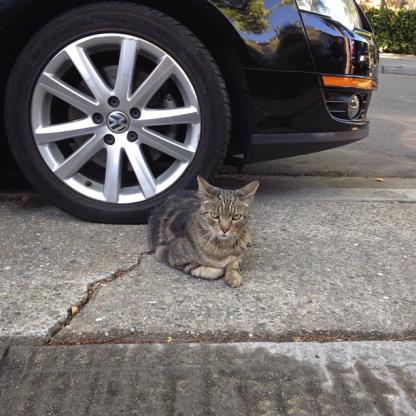Target: (146, 169, 261, 286)
